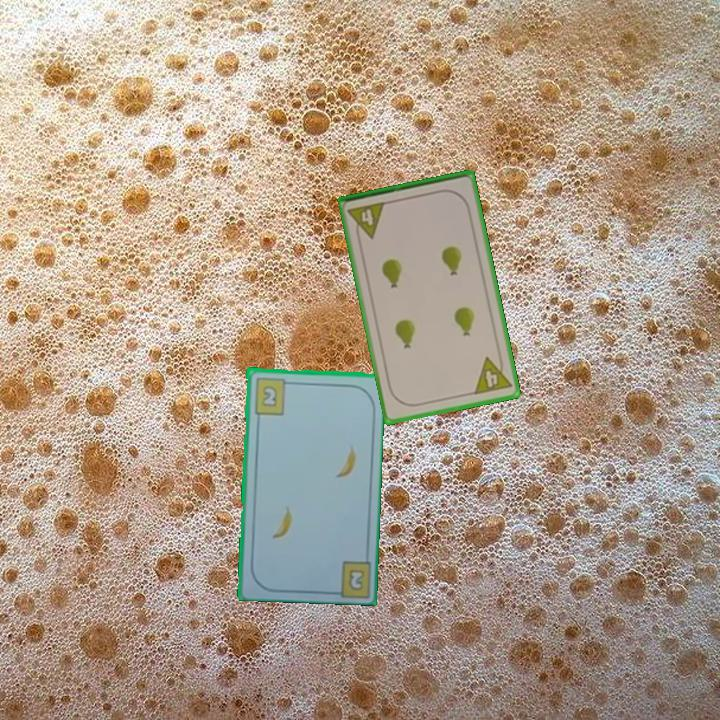2b: (250, 374, 294, 417), (345, 565, 367, 593)
4p: (470, 351, 515, 397), (344, 198, 388, 243)
